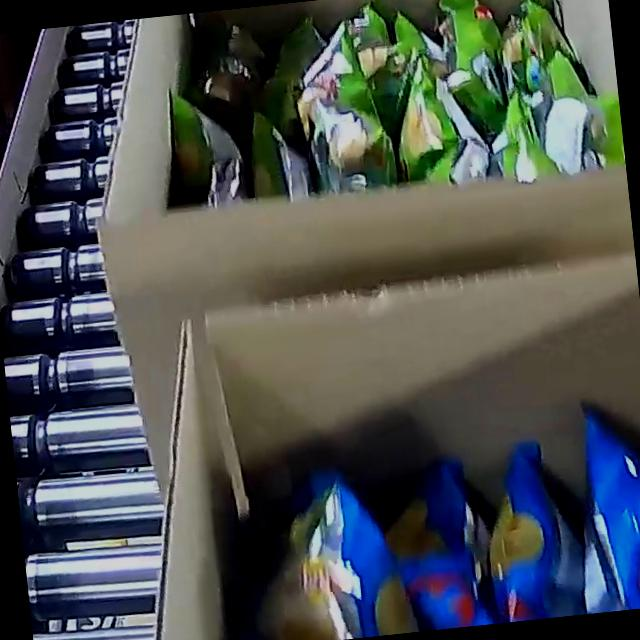paprika: (215, 394, 640, 640)
yogurt: (155, 0, 626, 216)
